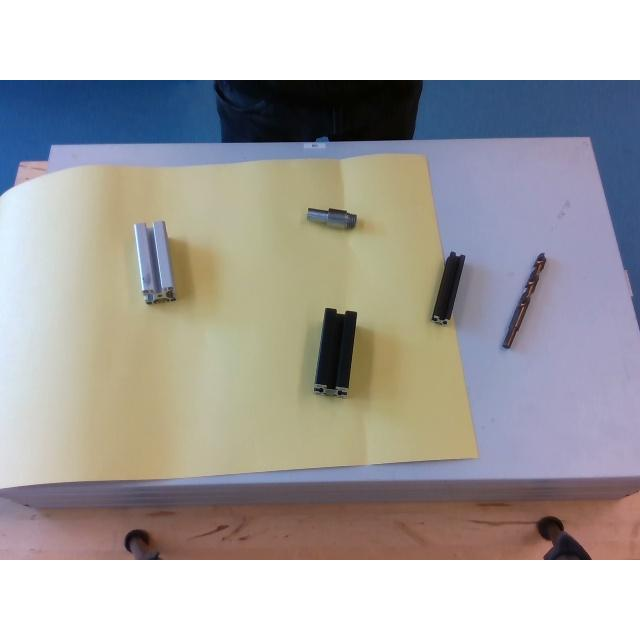Axis2: (306, 207, 358, 230)
Drill: (502, 252, 544, 346)
F20_20_B: (432, 253, 464, 321)
S40_40_B: (314, 308, 354, 396)
S40_40_G: (134, 220, 174, 302)
